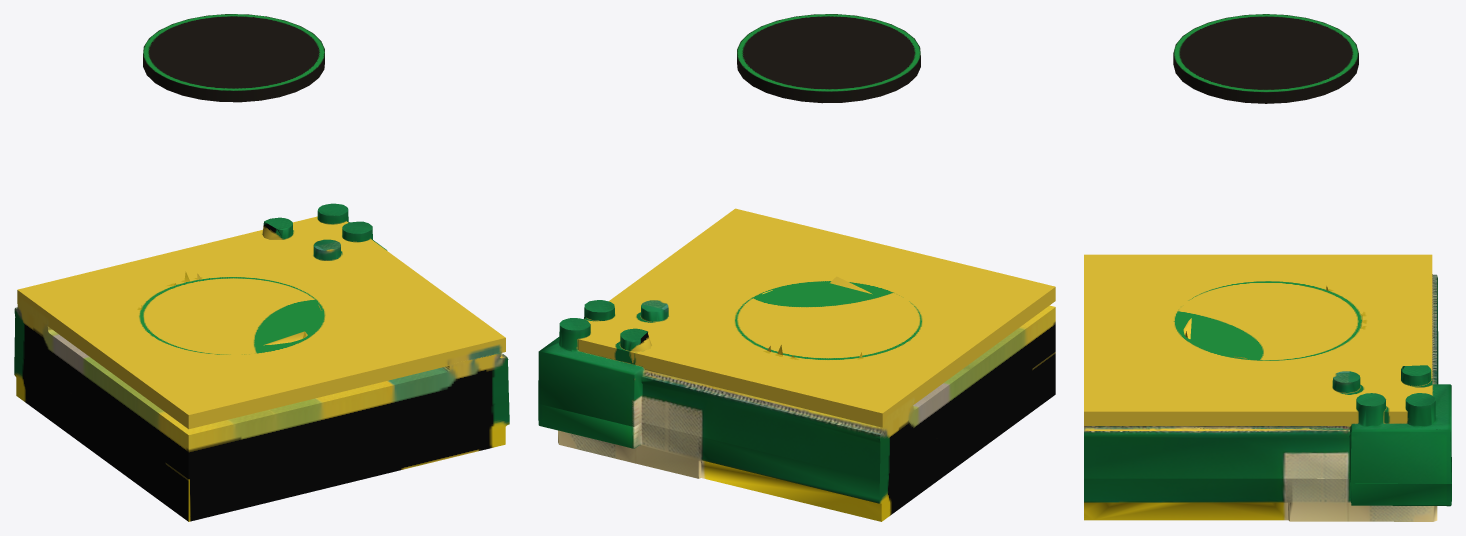
The model's file is 12-roof-back-right.fbx.
3 views of the same model, side by side, from view 1: azimuth 30°, elevation 25°; view 2: azimuth 150°, elevation 25°; view 3: azimuth 270°, elevation 25° (orthographic).
Visible parts, largest first — view 1: roof-back-right; view 2: roof-back-right; view 3: roof-back-right.
Part boxes in pixels (box(x1,y1,x2,y2)): roof-back-right: box(14, 14, 509, 521); roof-back-right: box(538, 14, 1055, 521); roof-back-right: box(1084, 14, 1451, 521).
Bounding box in the file's own units: 4912 × 5252 × 4646.
Materials: 1 (1 with a texture image).
